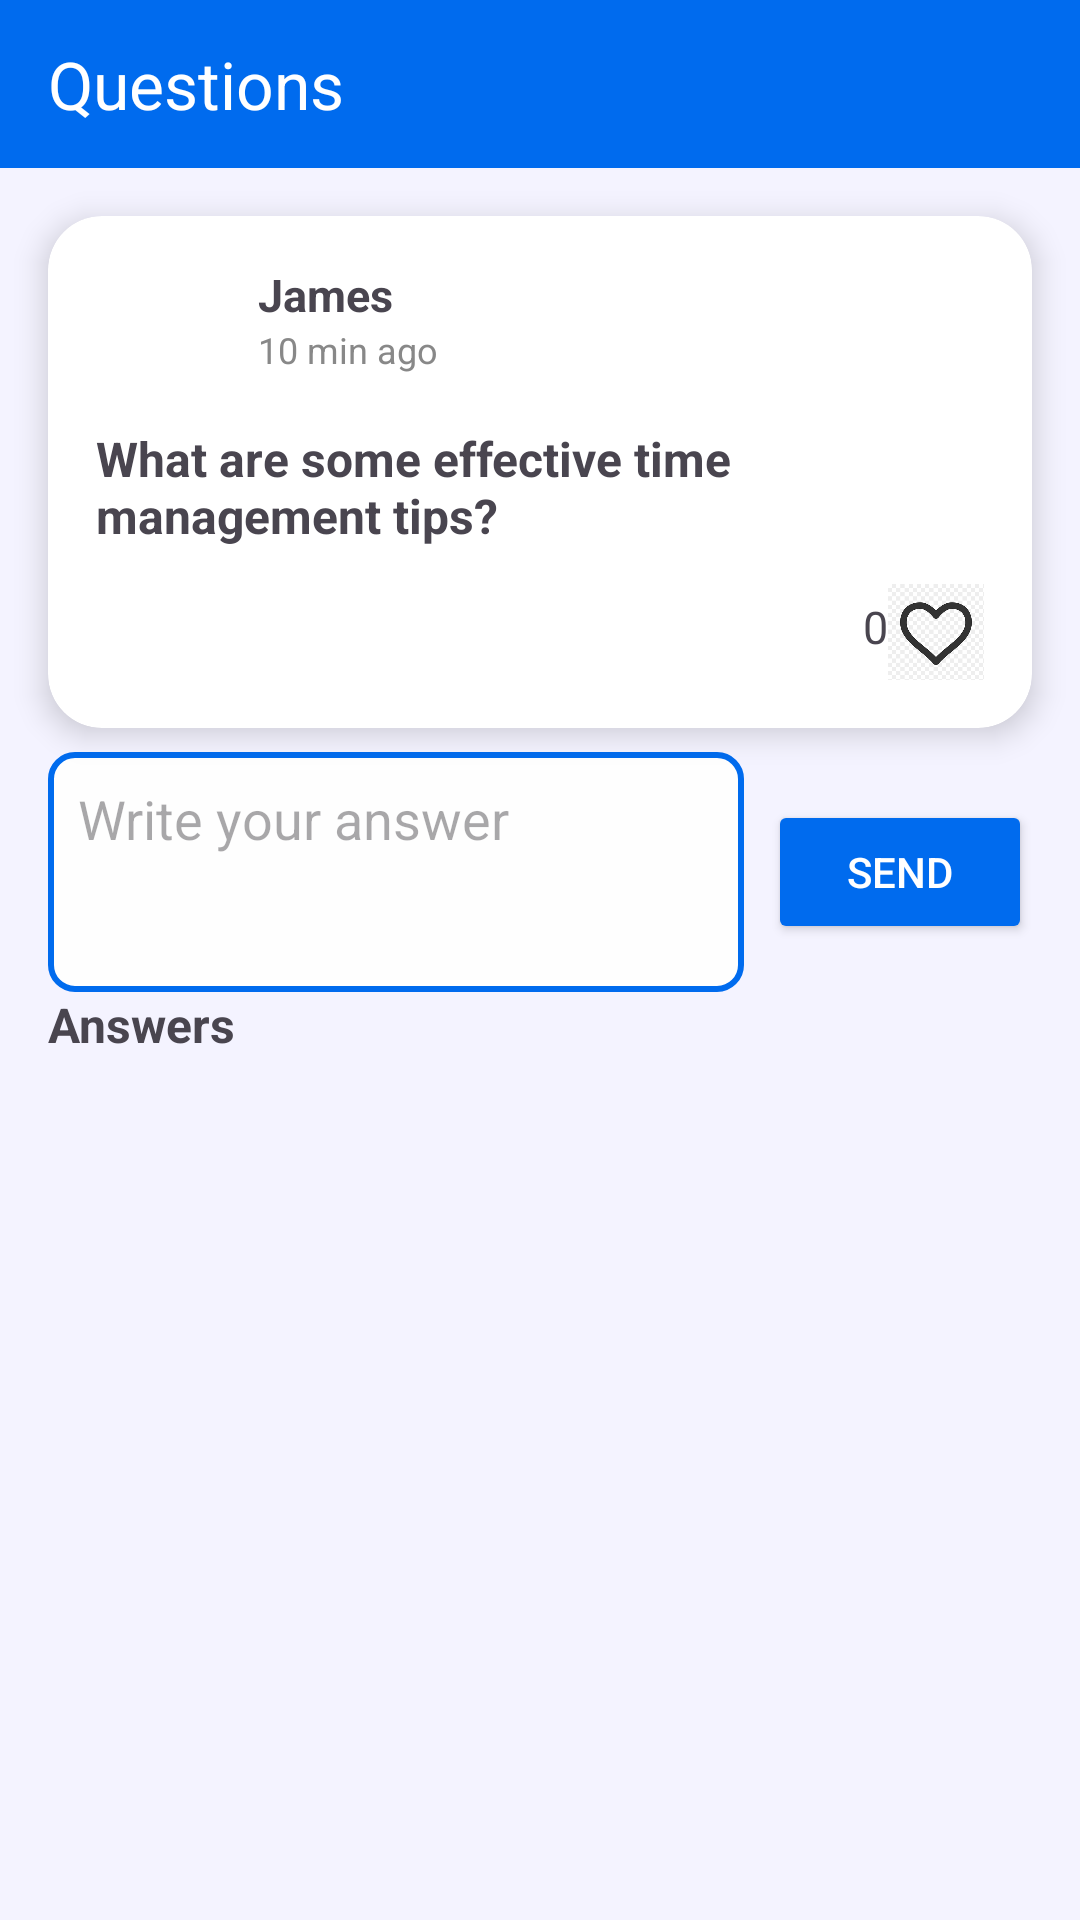

Screen size 1080x1920. Icon name, then its box in pixels as Rect(x1, y1, x2, y2):
heart: Rect(900, 602, 972, 665)
